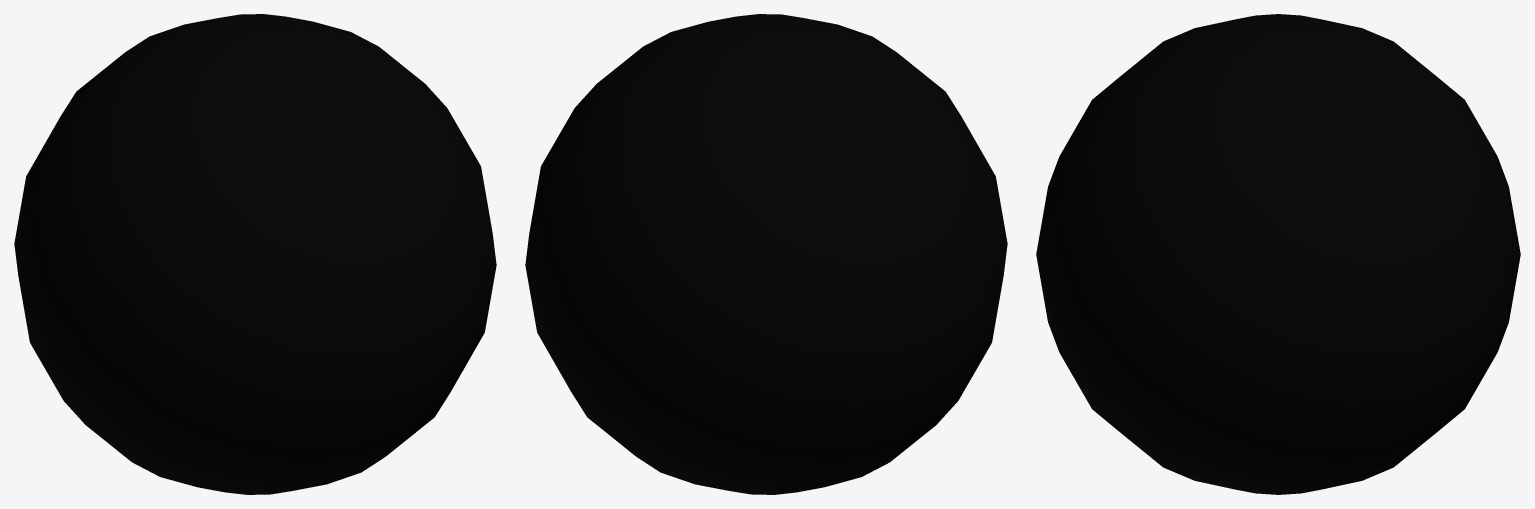
File: 0cbe4f0e-afb0-4804-80cc-958281df2eec.glb
The picture shows the model from 3 angles, left to right: view 1: azimuth 30°, elevation 25°; view 2: azimuth 150°, elevation 25°; view 3: azimuth 270°, elevation 25°; orthographic projection.
Visible parts, largest first — view 1: BaseSphere.008; view 2: BaseSphere.008; view 3: BaseSphere.008.
Boxes of the visible parts, bbox=[...] form: BaseSphere.008: bbox=[14, 14, 496, 494]; BaseSphere.008: bbox=[525, 14, 1007, 494]; BaseSphere.008: bbox=[1036, 14, 1520, 494].
Size of what is drawn, in the model's own units: 0.7481 by 0.7481 by 0.7481.
1 material, 1 textured.
